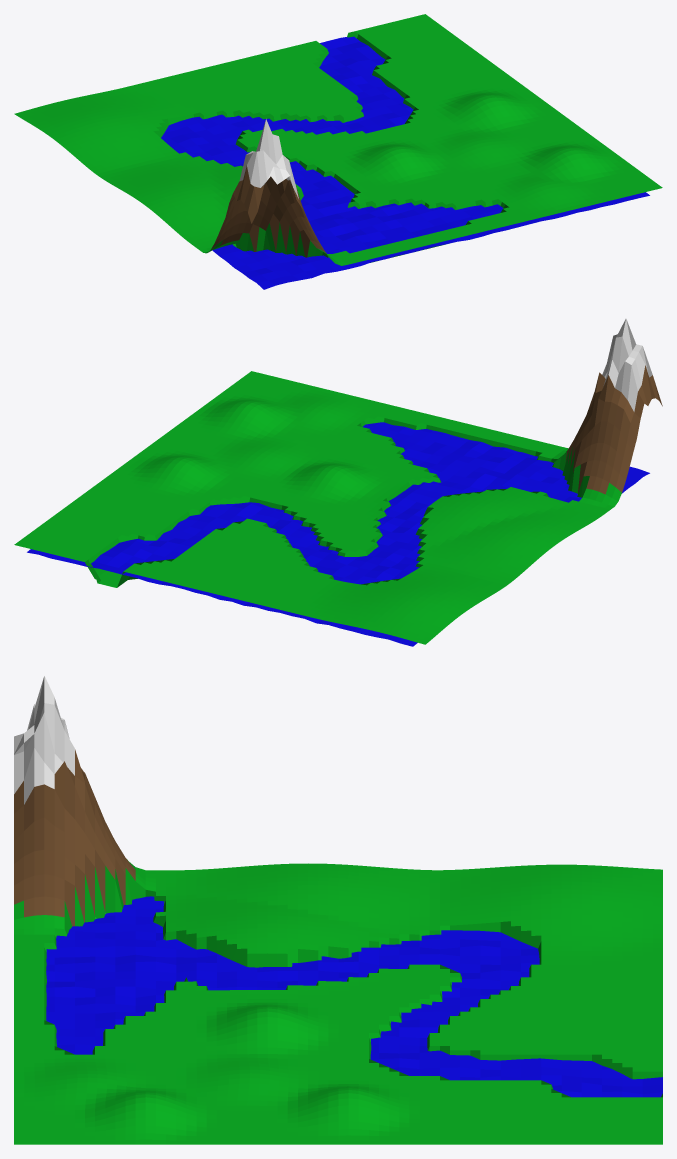
Rendered from Moutains and River.fbx.
3 renders of one model, top to bottom at view 1: azimuth 30°, elevation 25°; view 2: azimuth 150°, elevation 25°; view 3: azimuth 270°, elevation 25°, orthographic. The views are drawn at different scales.
Parts seen in each view (by area): view 1: Plane, Plane.001; view 2: Plane, Plane.001; view 3: Plane, Plane.001.
Boxes of the visible parts, bbox=[...] form: Plane: bbox=[14, 14, 662, 265]; Plane.001: bbox=[161, 36, 649, 289]; Plane: bbox=[14, 318, 662, 644]; Plane.001: bbox=[27, 422, 649, 646]; Plane: bbox=[14, 676, 662, 1144]; Plane.001: bbox=[46, 896, 662, 1097].
Bounding box in the file's own units: 4000 × 1610 × 4000.
